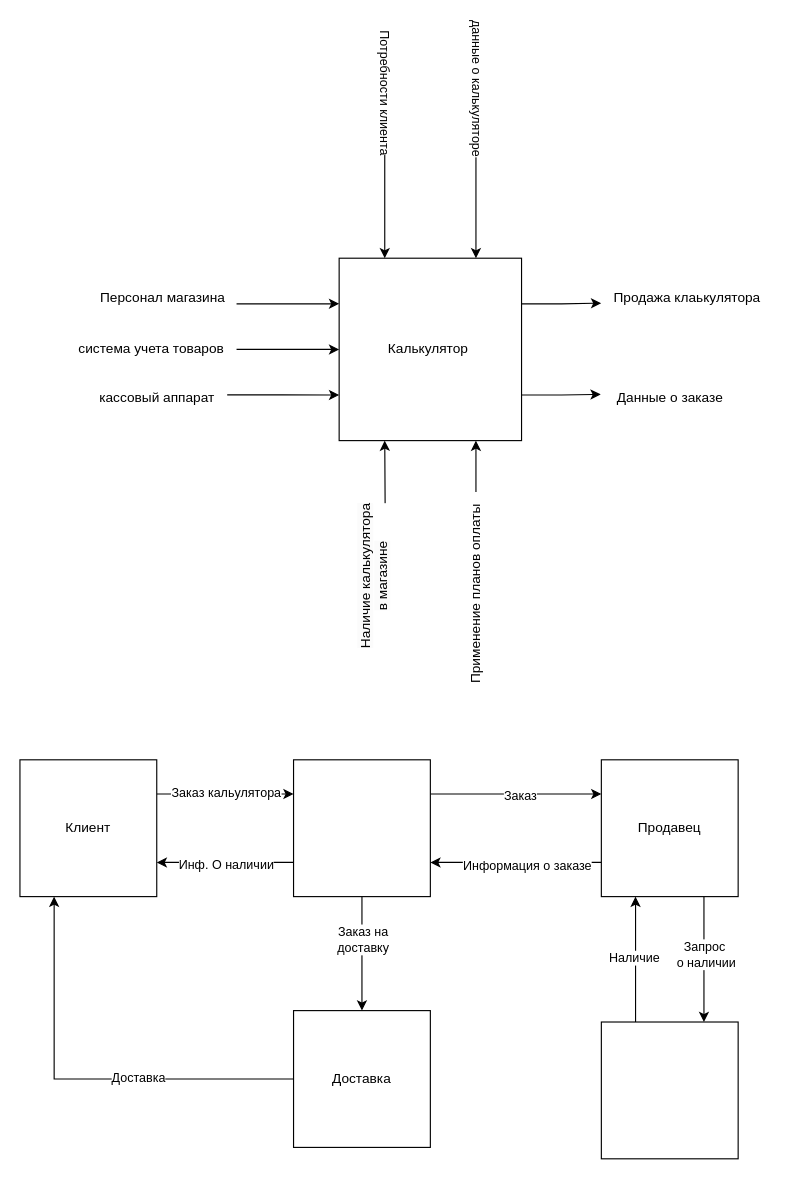
Some shapes in this 792 by 1179 pixel diagram are drawn without their labels. The centre of each missing label's shape, as x and y in pixels:
БД магазина: (669,1090)
Магазин: (361,828)
